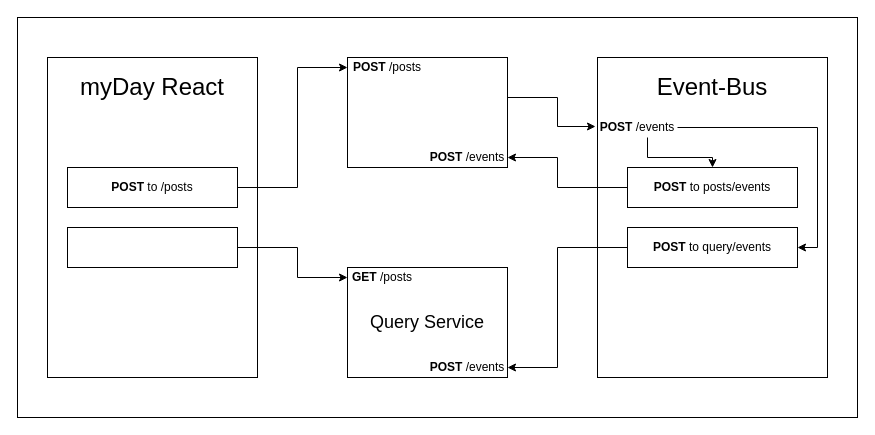
This 875x435 diagram has some shape labels left out. Each missing label, with the box of its shape:
GET from /posts: (66, 226, 238, 268)
Posts Service: (346, 56, 508, 168)
